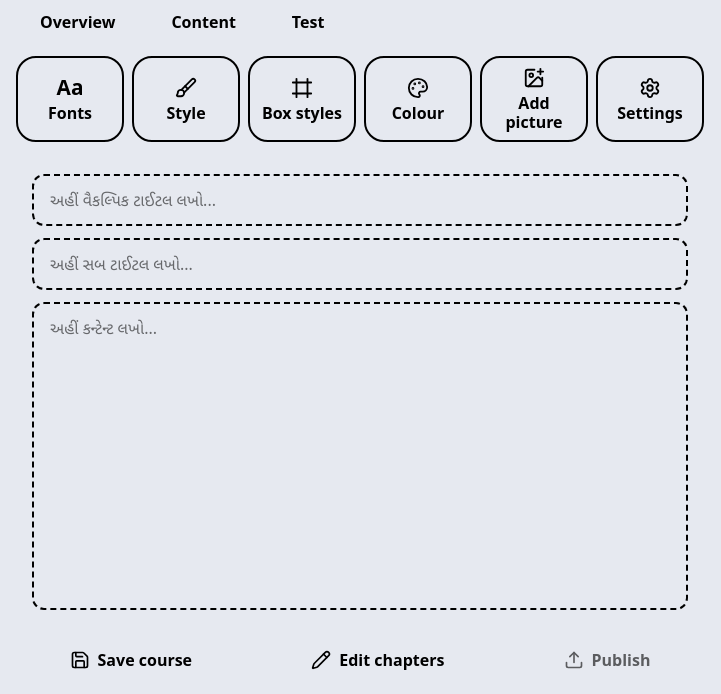
Test: course workspace layout at 1366 px › the friendly list of problems after a failed Save: nothing collides
The image size is (721, 694).
Click the button "Save course": click(131, 660) [16,638,246,682]
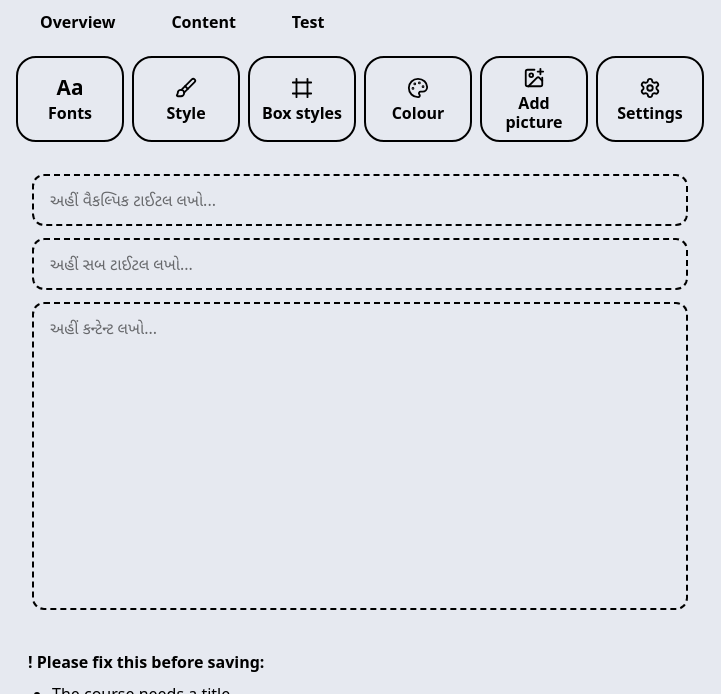
expect the text "Please fix this before saving:" is shown: met, box [37,651,264,673]
